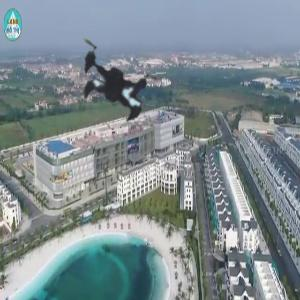drone: (39, 9, 194, 164)
